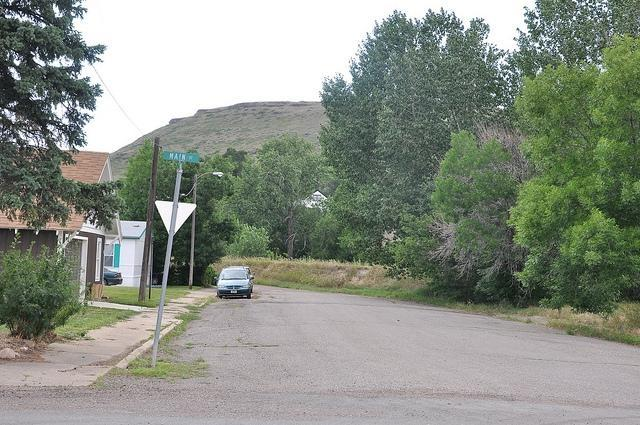car: (214, 268, 255, 299), (228, 265, 256, 278), (104, 267, 123, 286)
